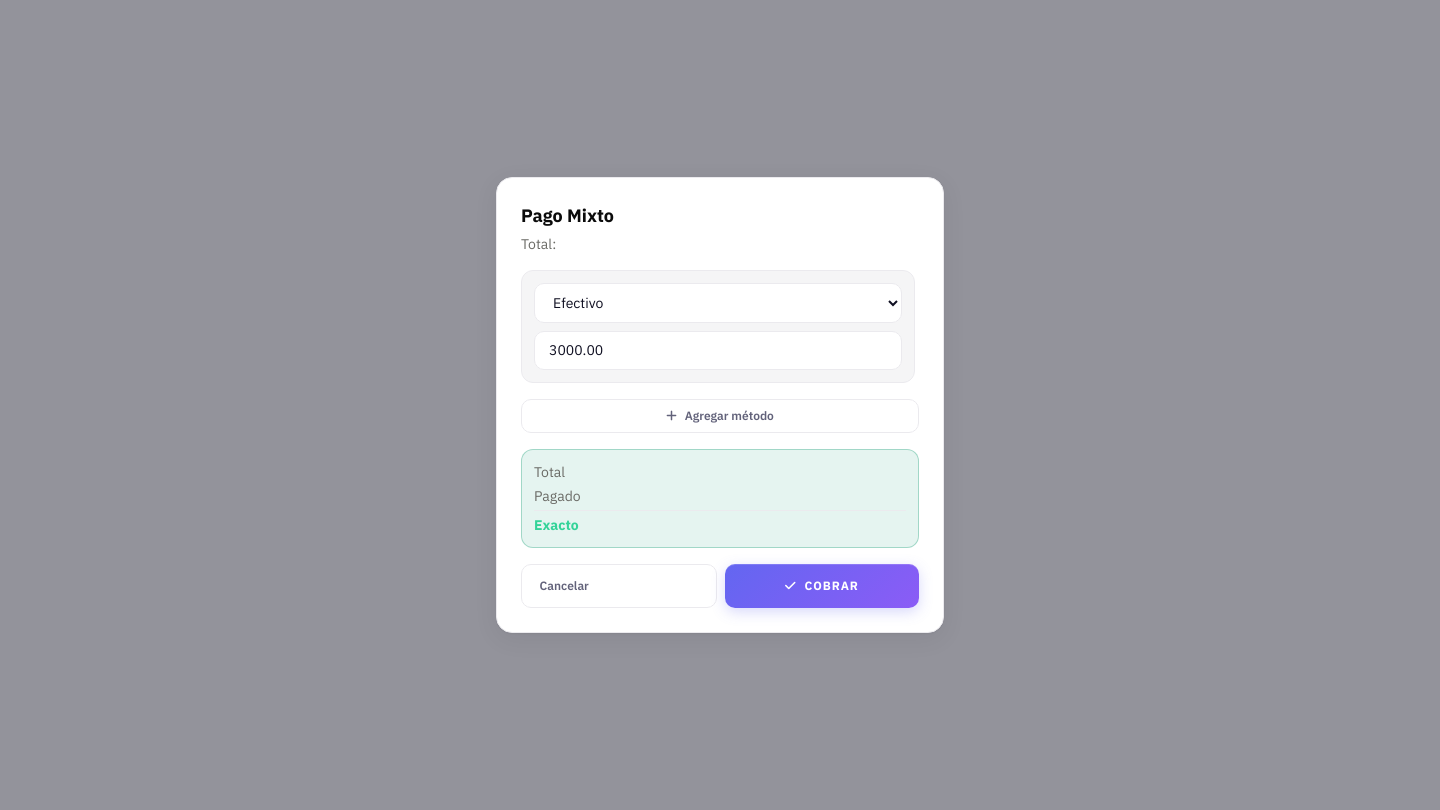
Test case: Pago mixto con cliente: fiar › sin cliente, un pago parcial no se puede cobrar
Replace the text in the number field with placeholder "0.00" with "500" at (718,350), box [534,330,902,370]
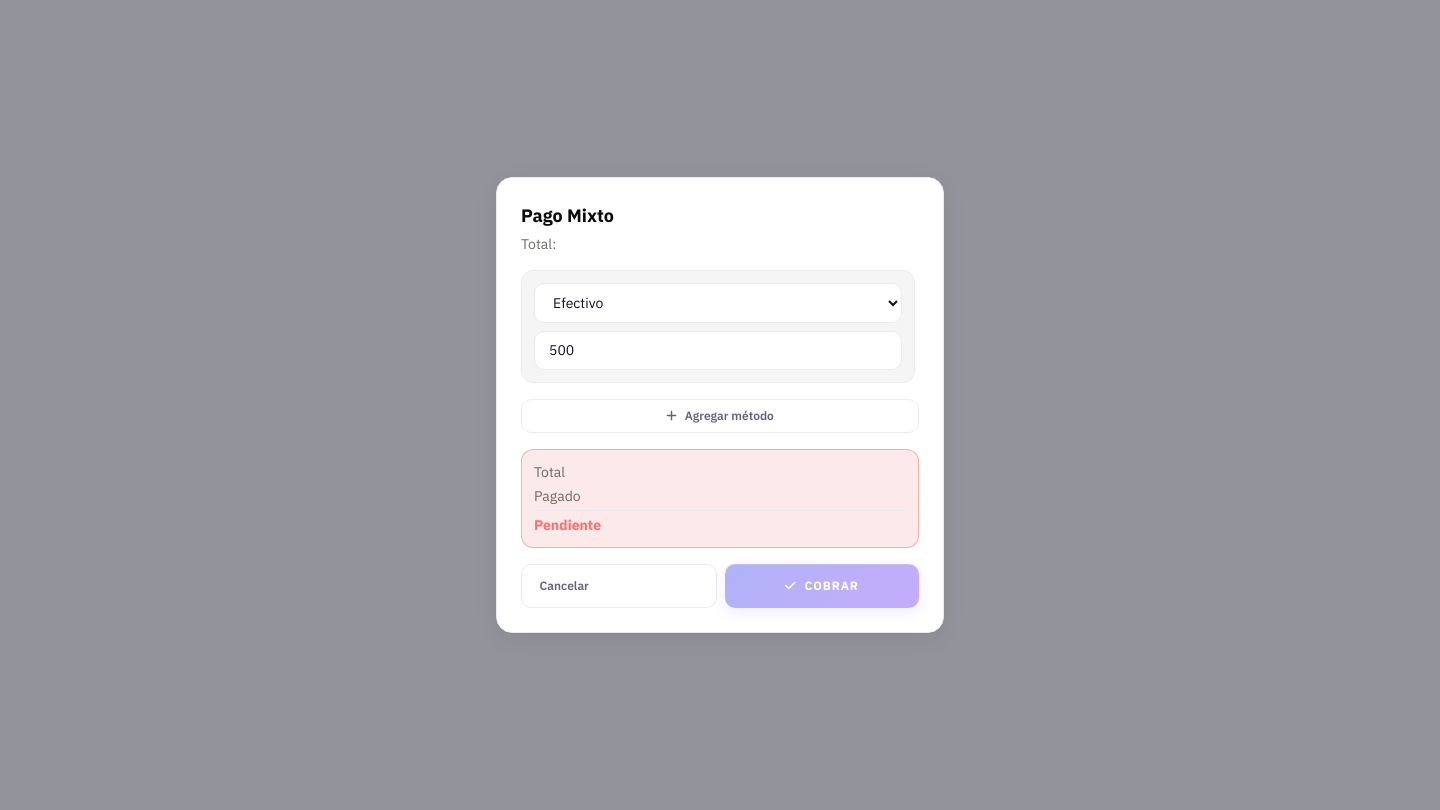
Now the text "Pendiente" is shown, box [534,515,601,535]
Now the button "Cobrar" is disabled, box [725,564,919,608]
